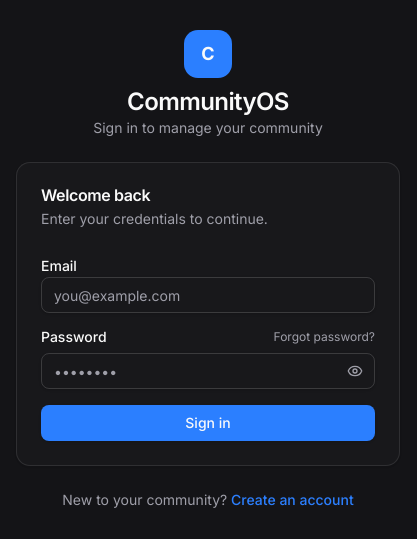
Test: LoginPage › rejects an email that passes HTML5 checks but not the schema
The width and height of the screenshot is (417, 539).
In the field labelled "Email": (208, 295) [41,277,375,313], type "a@b"
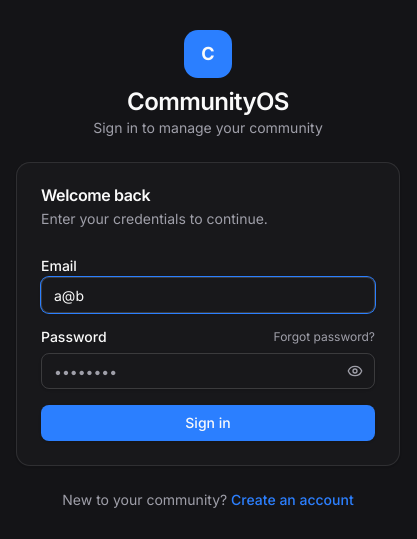
In the password field with placeholder "••••••••": (208, 371) [41,353,375,389], type "Str0ng!Pass"
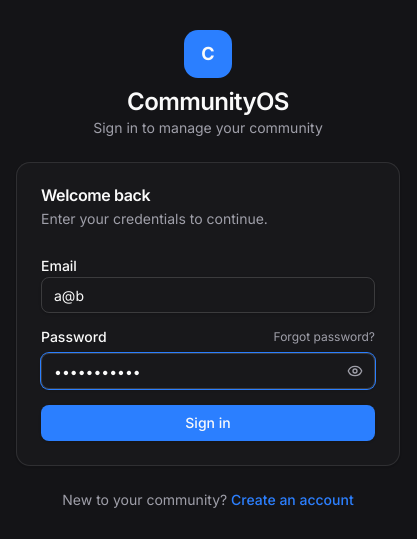
Click the button "Sign in": (208, 423) [41,405,375,441]
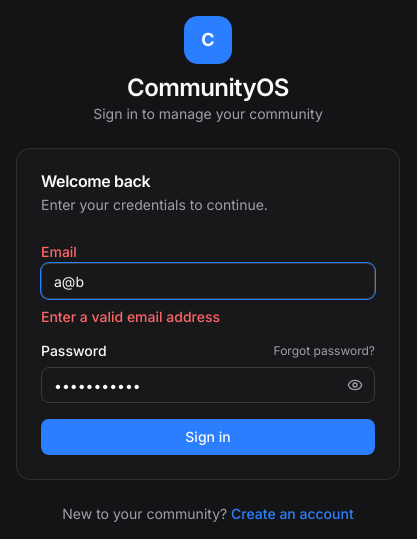
Check: the text "Enter a valid email address" is shown, box [41,308,220,325]
